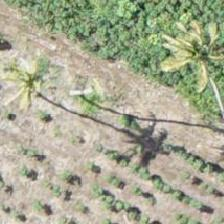coconut_tree: (0, 37, 75, 127), (156, 3, 223, 93)
